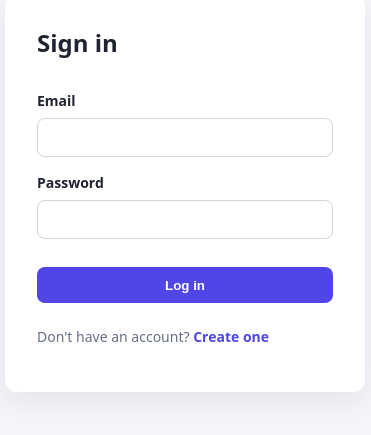
Login page › shows an error message when login fails with invalid credentials
Type "ada@example.com" into the field labelled "Email". click: (185, 138)
box: [37, 118, 333, 157]
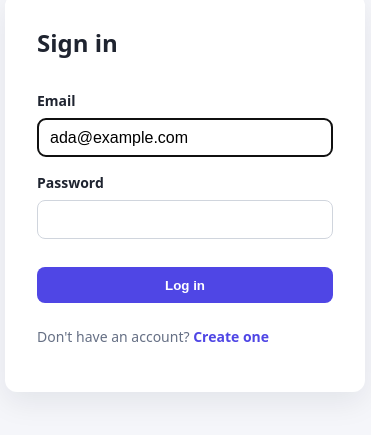
Type "wrong-password" into the password field labelled "Password". click: (185, 220)
box: [37, 200, 333, 239]
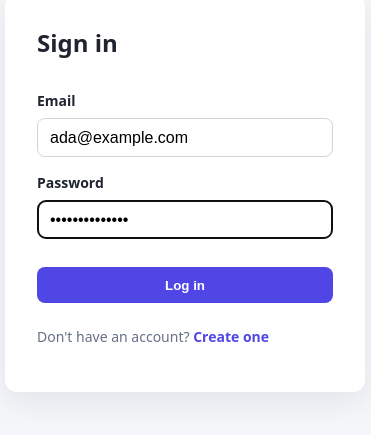
Click the button "Log in". click: (185, 285)
box: [37, 267, 333, 303]
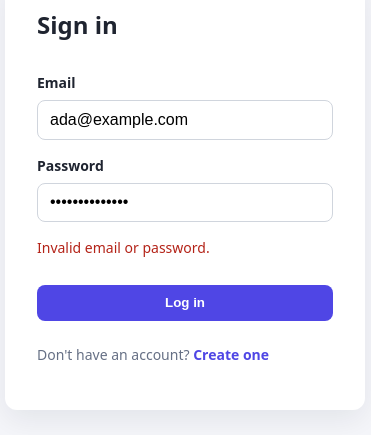
Expected: the message shows "Invalid email or password", [37, 238, 210, 257]
